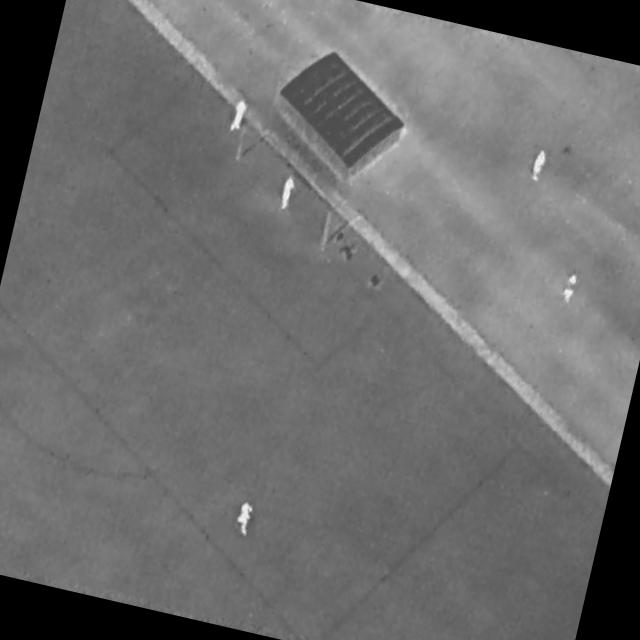person: (231, 499, 258, 540), (557, 269, 584, 308), (276, 173, 299, 214), (228, 95, 251, 135), (528, 145, 550, 183)
